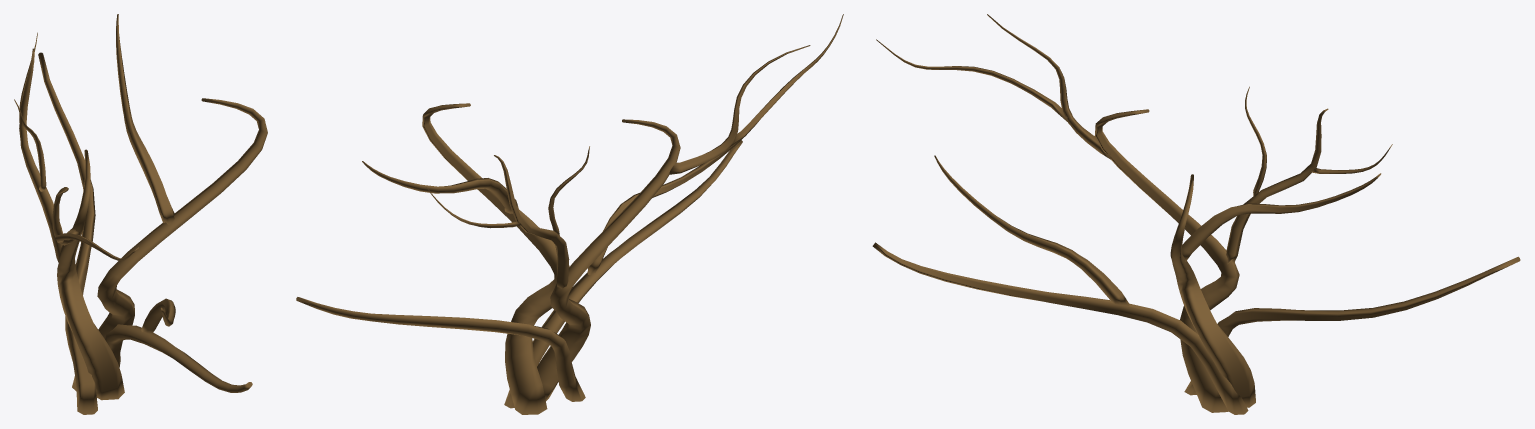
File: SM_HeartTree_Final.fbx
3 renders of one model, left to right at view 1: azimuth 30°, elevation 25°; view 2: azimuth 150°, elevation 25°; view 3: azimuth 270°, elevation 25°, orthographic. The views are drawn at different scales.
Parts seen in each view (by area): view 1: SM_HeartTree__2_3; view 2: SM_HeartTree__2_3; view 3: SM_HeartTree__2_3.
Part boxes in pixels (x1,y1,x2,y2): SM_HeartTree__2_3: [14, 14, 267, 414]; SM_HeartTree__2_3: [296, 14, 843, 414]; SM_HeartTree__2_3: [872, 14, 1520, 414].
Size of the model in its own units: 3878 by 3931 by 7383.
